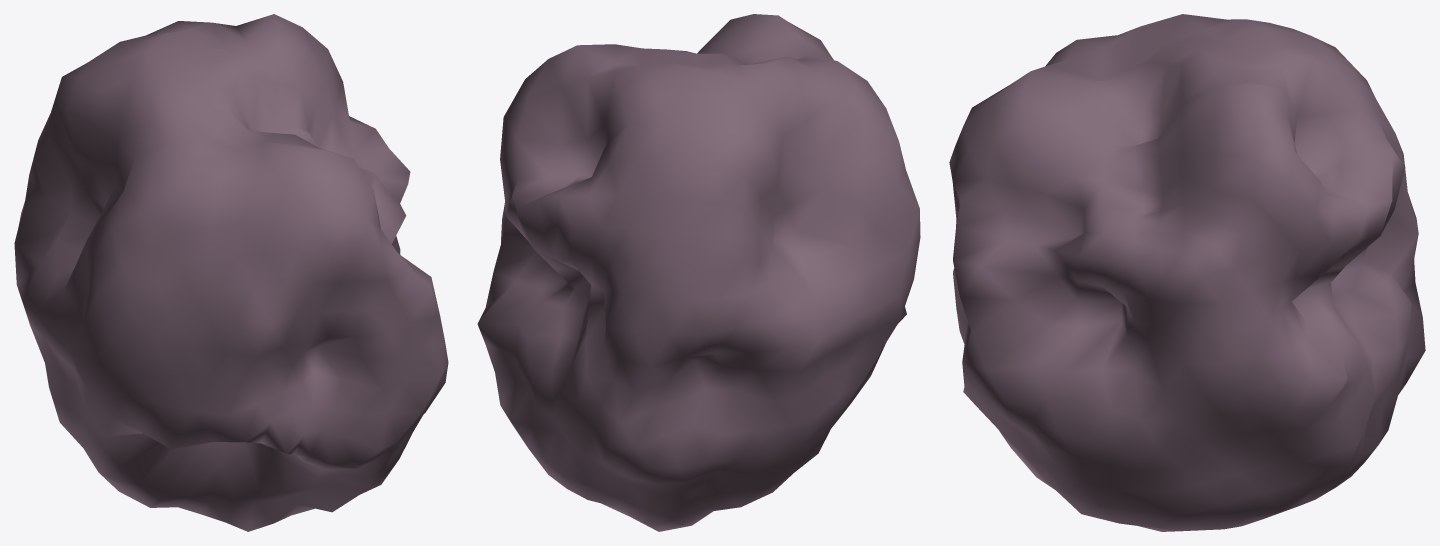
File: asteroid_07.glb
3 renders of one model, left to right at view 1: azimuth 30°, elevation 25°; view 2: azimuth 150°, elevation 25°; view 3: azimuth 270°, elevation 25°, orthographic.
Visible parts, largest first — view 1: Asteroid_07; view 2: Asteroid_07; view 3: Asteroid_07.
Boxes of the visible parts, box(x1,y1,x2,y2) form: Asteroid_07: box(14, 14, 448, 531); Asteroid_07: box(477, 14, 920, 531); Asteroid_07: box(949, 14, 1425, 531).
Size of the model in its own units: 1.64 by 2.05 by 1.87.
